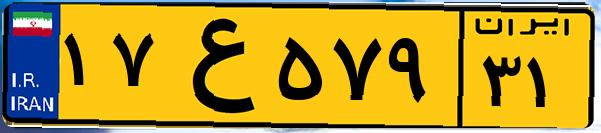1: (57, 26, 110, 100), (525, 38, 570, 115)
3: (475, 38, 525, 113)
5: (270, 28, 330, 110)
7: (330, 28, 385, 110), (110, 28, 158, 98)
9: (385, 28, 445, 110)
ع: (158, 12, 270, 120)
